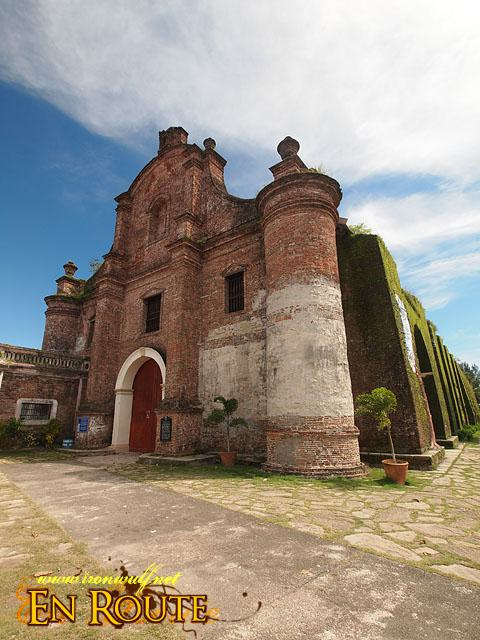Environmental Damage: (344, 217, 376, 246), (74, 278, 101, 298)
Sta. Maria Church: (42, 119, 365, 480)
Unfinished Paint: (193, 280, 352, 417)
